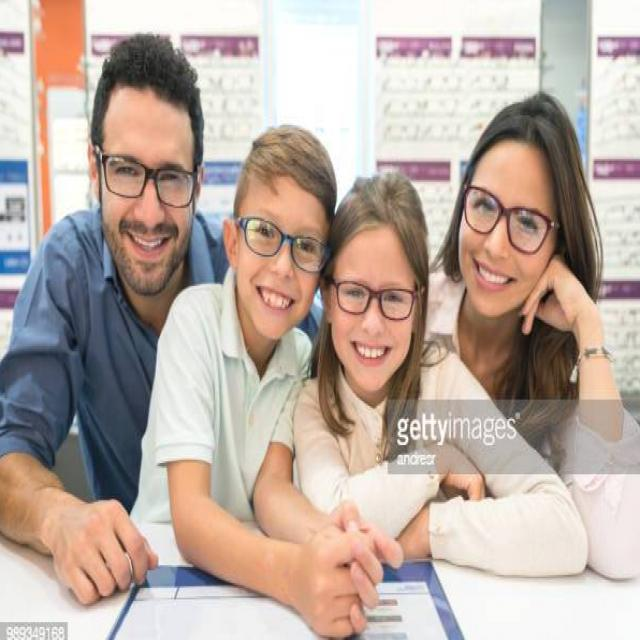Glasses: (89, 140, 203, 214), (461, 180, 562, 263), (236, 208, 330, 278), (329, 274, 428, 326)
